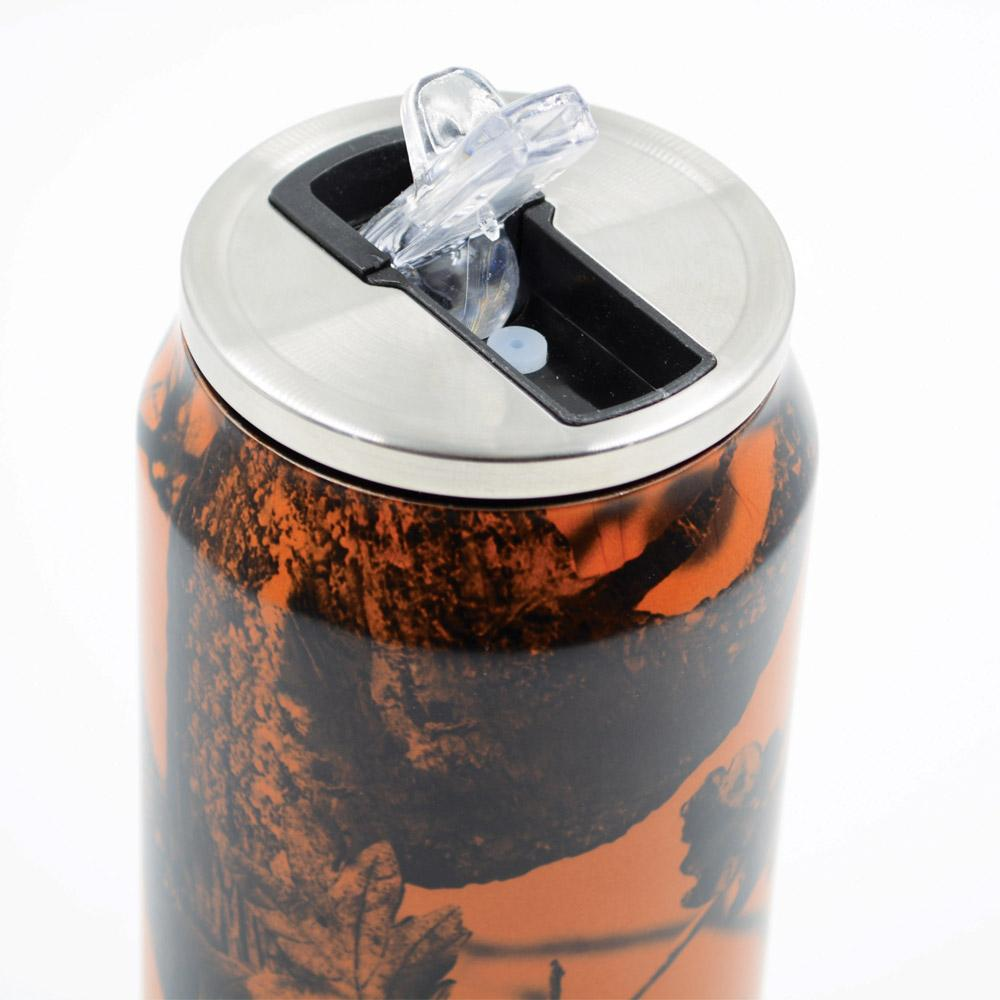metal: (139, 70, 817, 1000)
